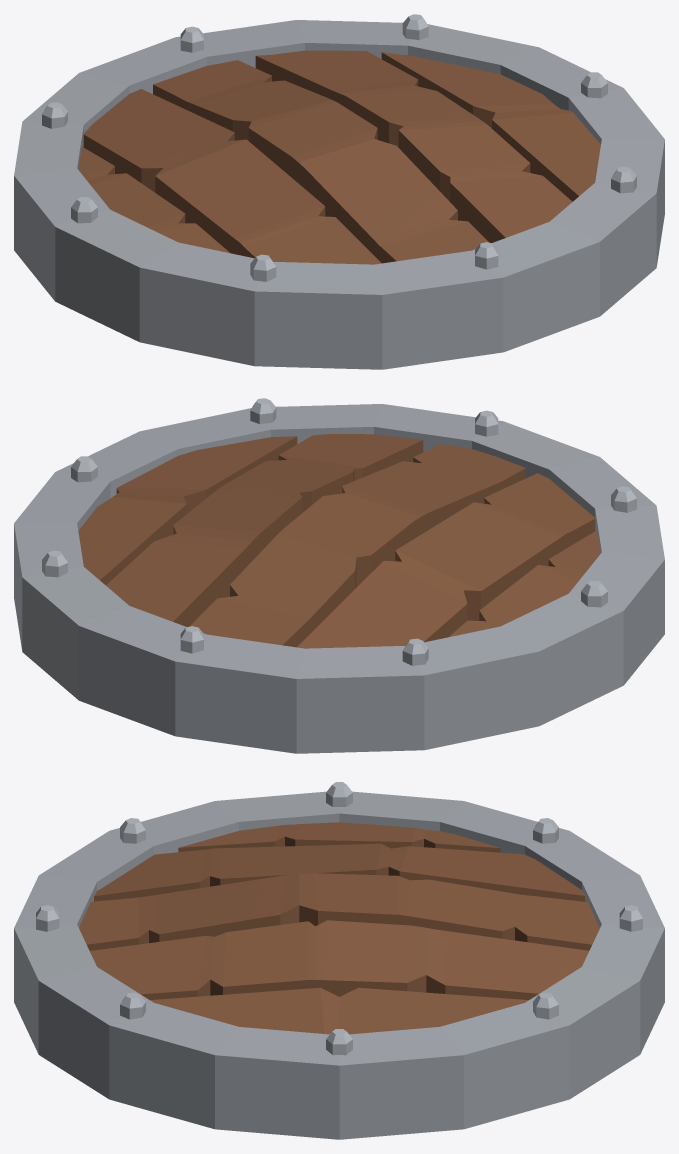
Rendered from trap_door.fbx.
The picture shows the model from 3 angles, top to bottom: view 1: azimuth 30°, elevation 25°; view 2: azimuth 150°, elevation 25°; view 3: azimuth 270°, elevation 25°; orthographic projection.
Visible parts, largest first — view 1: Shield_Round; view 2: Shield_Round; view 3: Shield_Round.
Part boxes in pixels (bbox=[...]): Shield_Round: bbox=[14, 14, 664, 369]; Shield_Round: bbox=[14, 398, 664, 753]; Shield_Round: bbox=[14, 782, 664, 1139].
Size of the model in its own units: 200 by 35.48 by 200.
